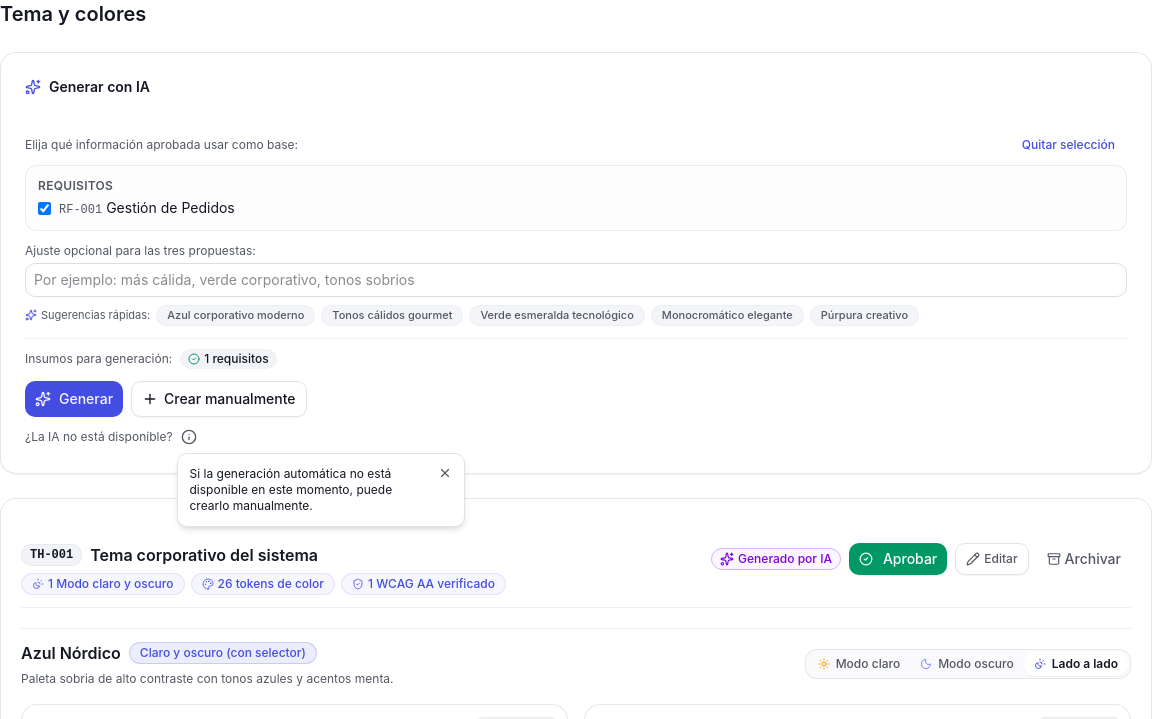
Test case: DesignThemePage › allows toggling between light mode, dark mode and side-by-side views
Check: the heading "Azul Nórdico" is shown, box [21,641,121,665]
# Click "Modo claro"
Click the button "Modo claro": (859, 664) [808,652,910,676]
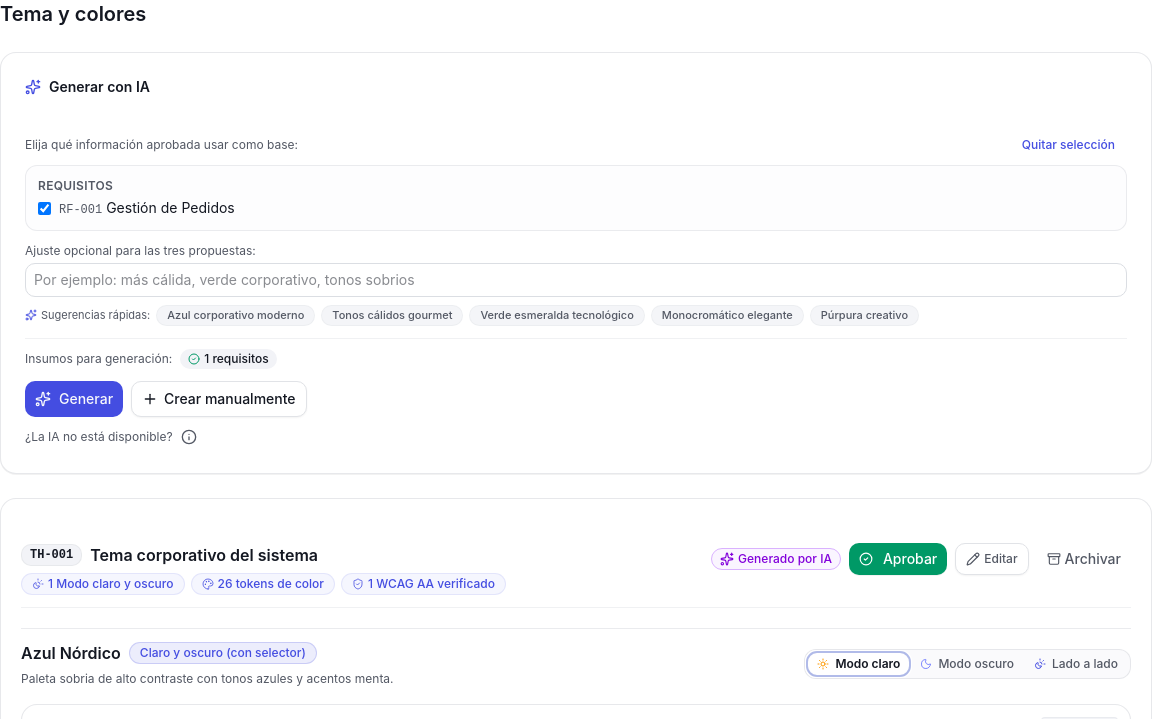
Check: the text "Paleta modo oscuro" is not shown
# Click "Modo oscuro"
Click the button "Modo oscuro": (967, 664) [910,652,1024,676]
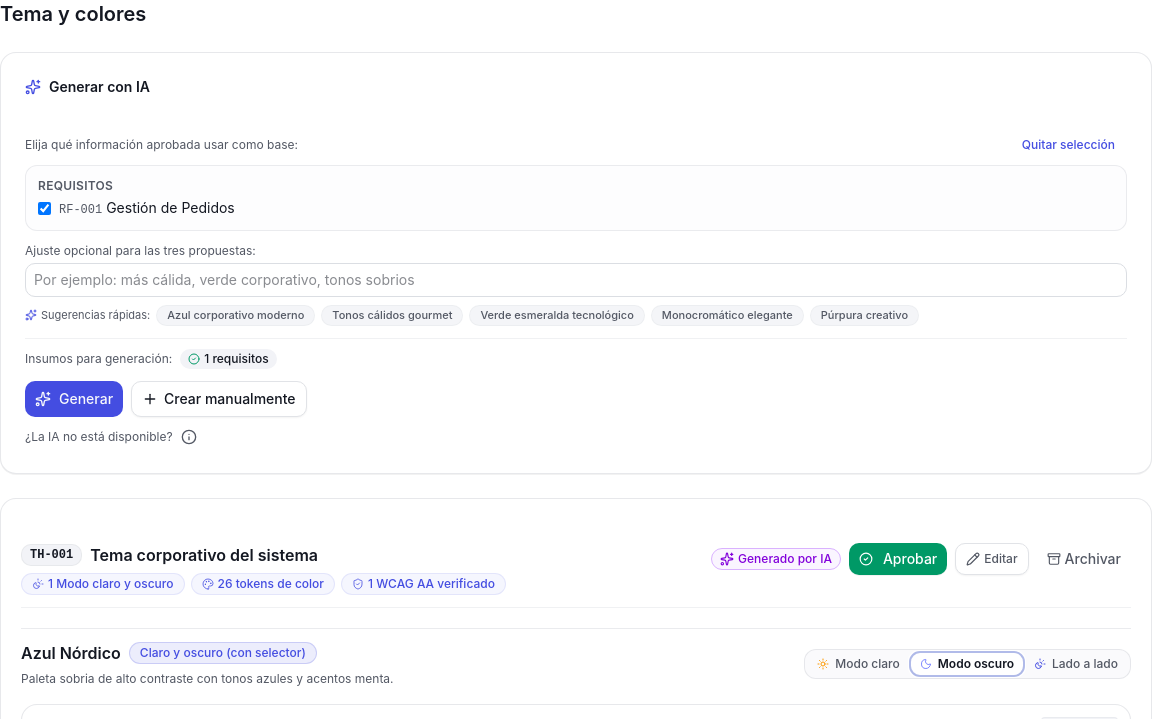
Check: the text "Paleta modo claro" is not shown
# Click "Lado a lado"
Click the button "Lado a lado": (1076, 664) [1024,652,1128,676]
(page scrolled)
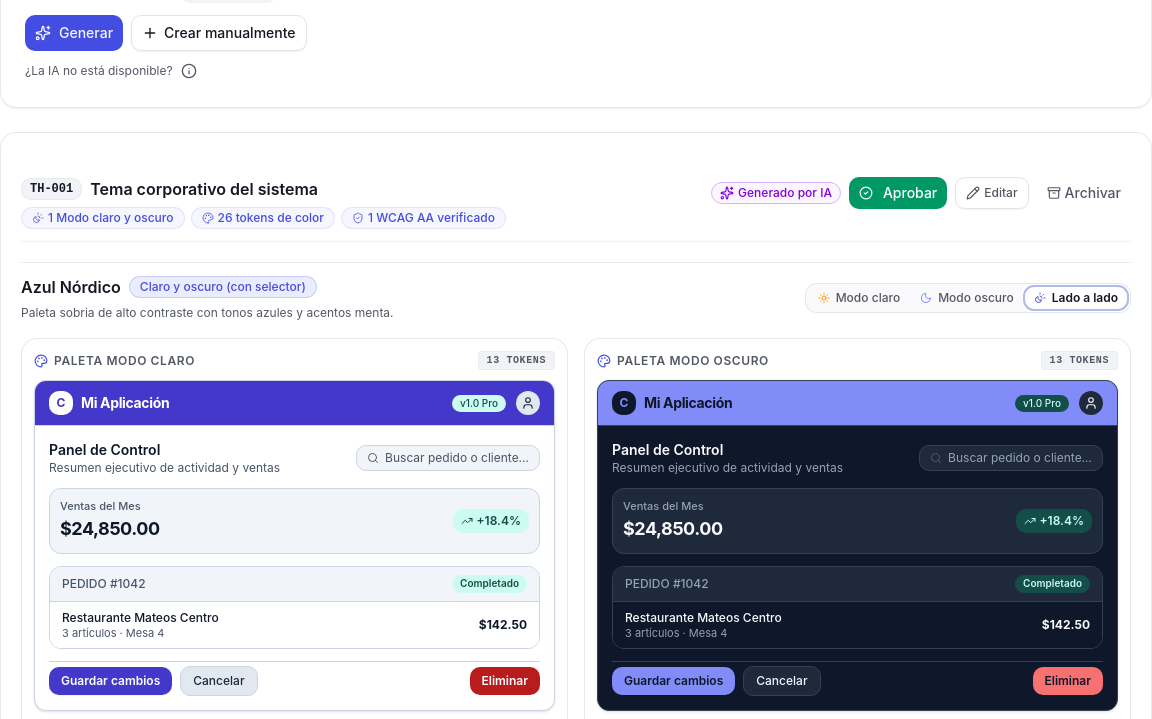
Check: the text "Paleta modo oscuro" is shown, box [597,353,769,369]
Check: the text "Paleta modo claro" is shown, box [34,353,195,369]
